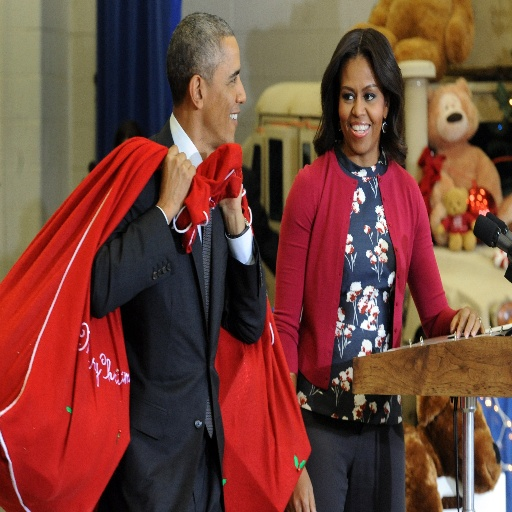hand: (156, 139, 190, 219), (449, 304, 486, 341), (287, 464, 315, 511), (219, 183, 243, 215)
